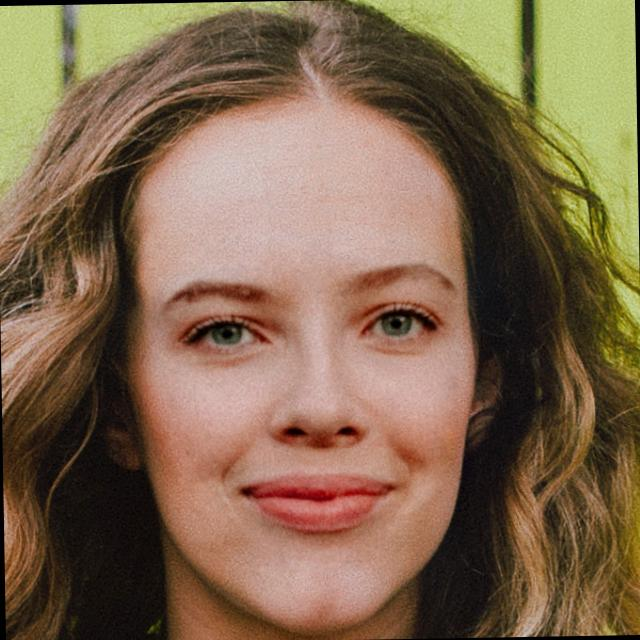face: (99, 79, 518, 640)
